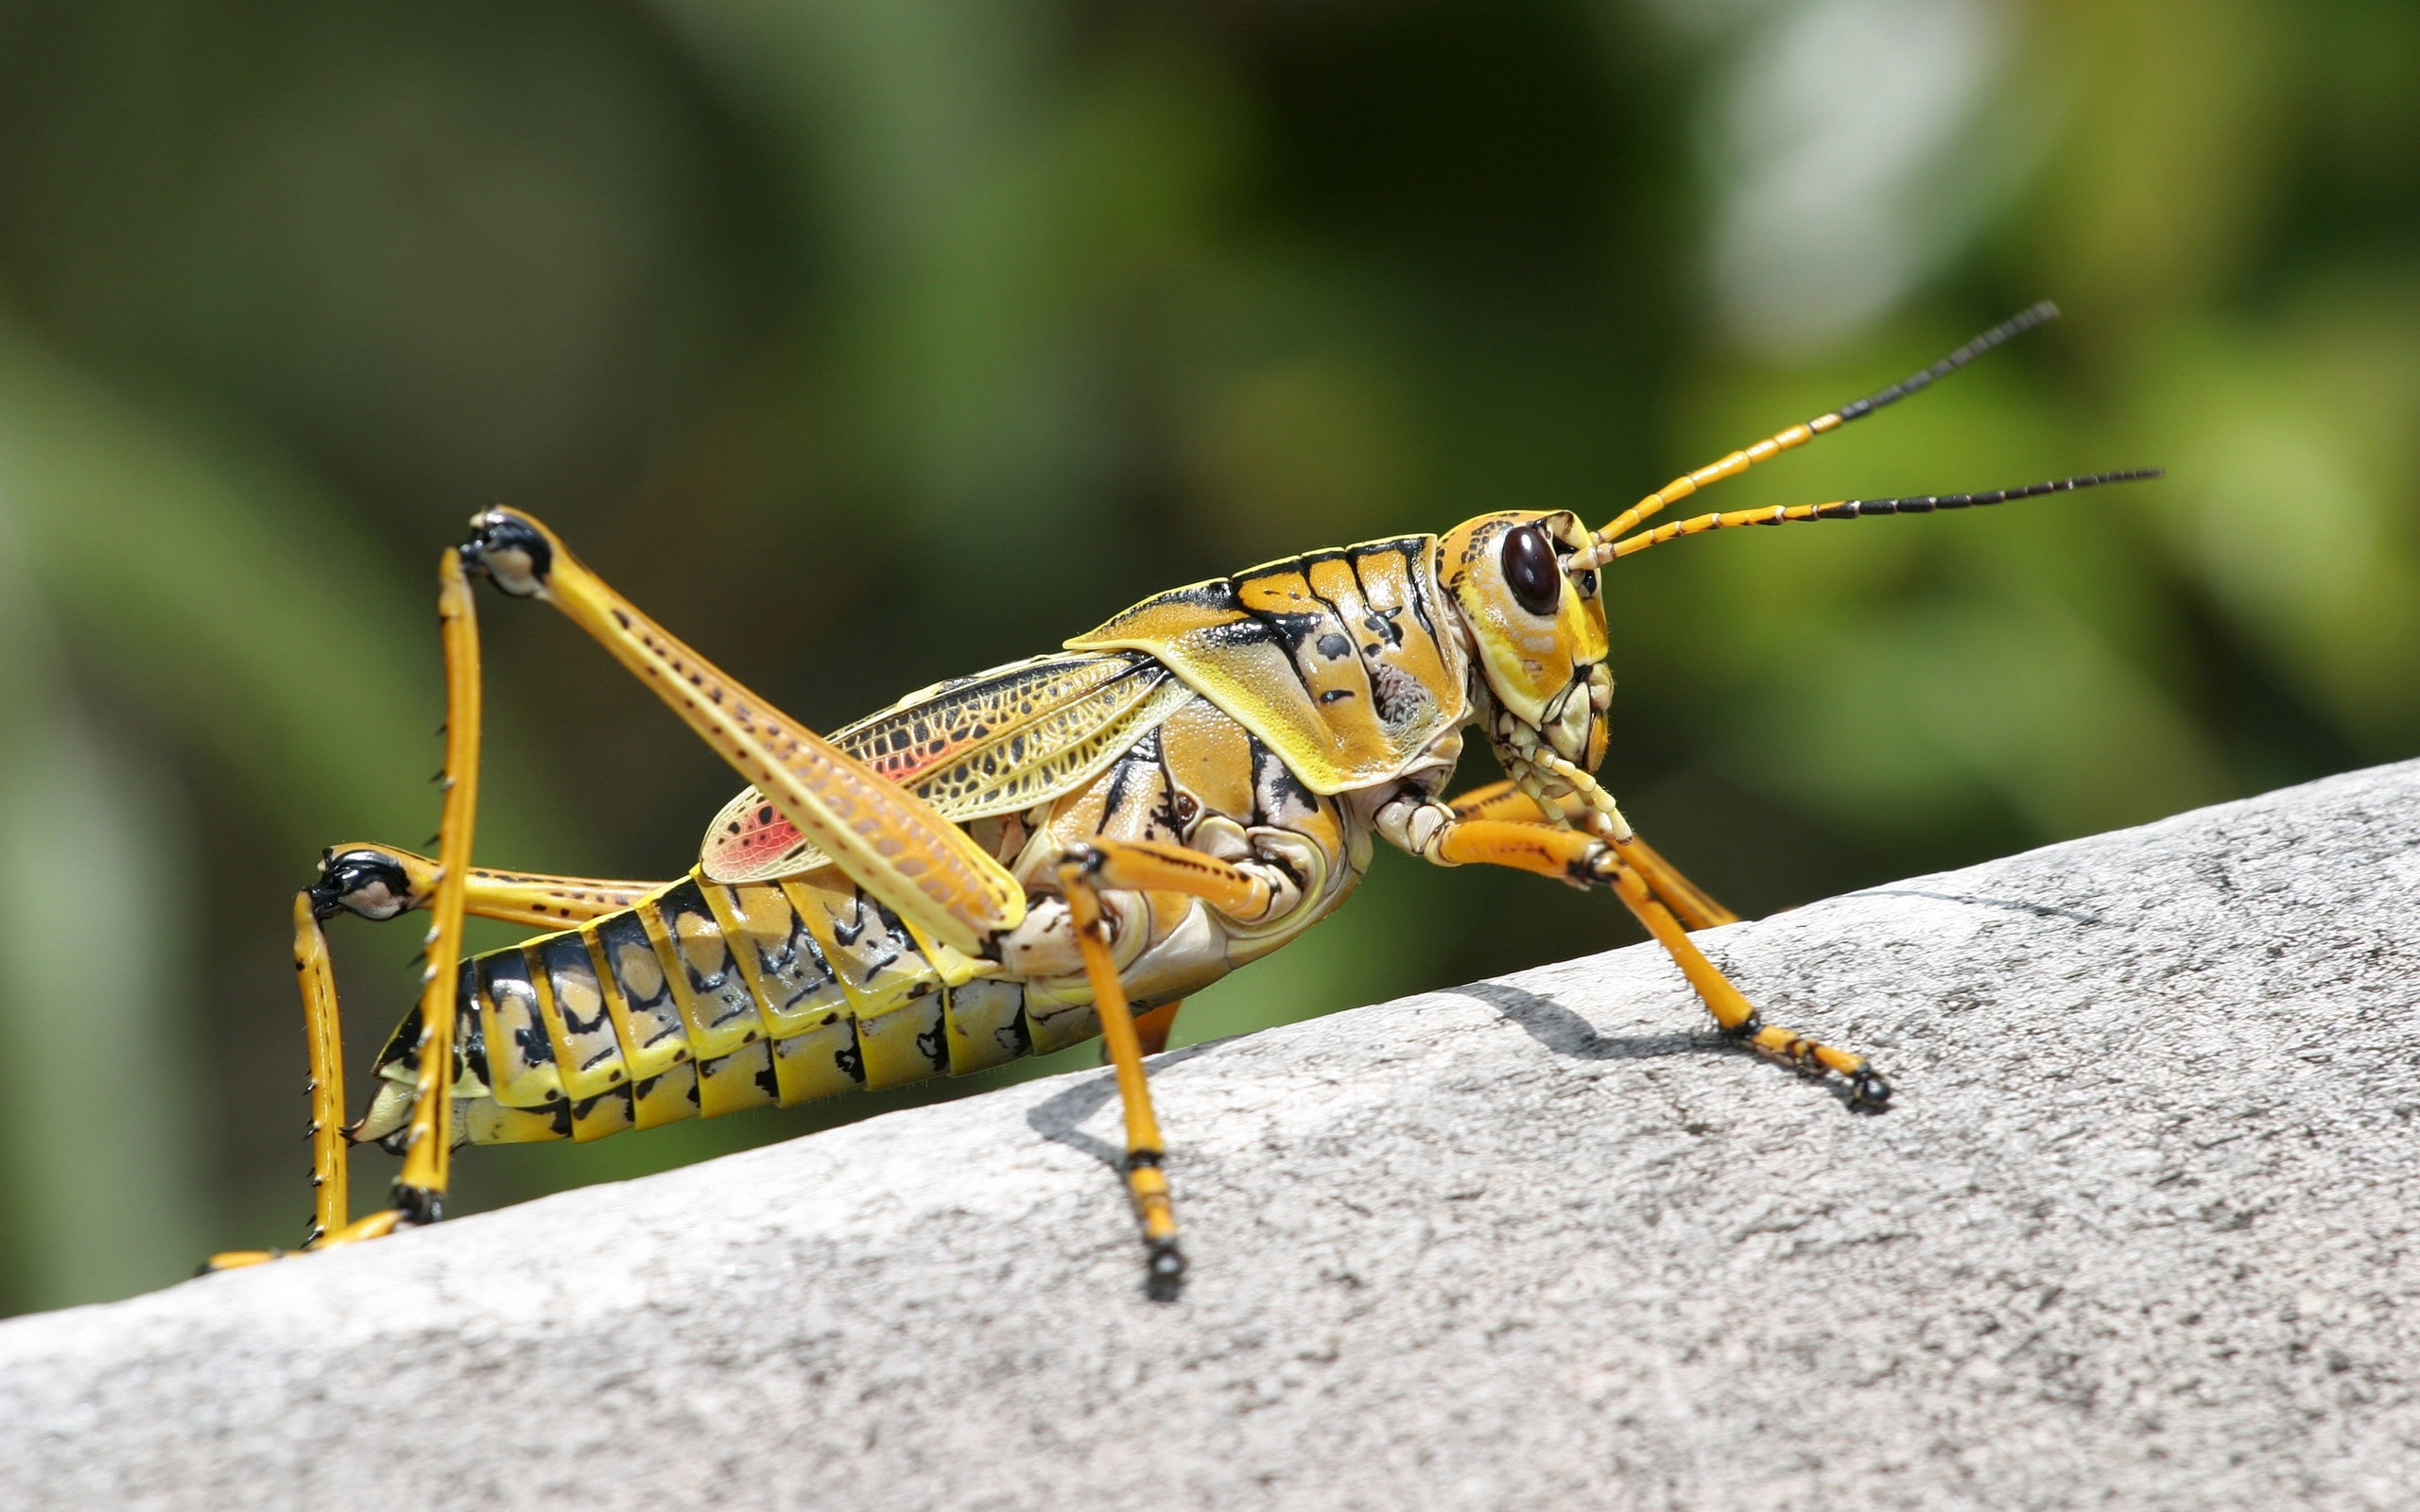huangchong: (240, 425, 1842, 1209)
